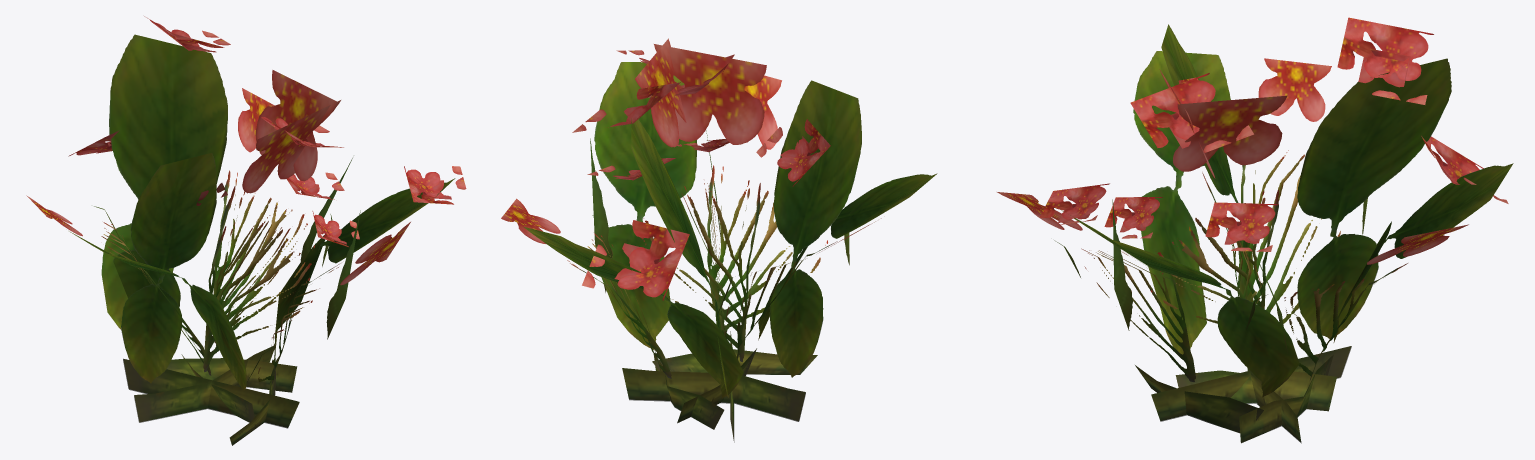
The model's file is Scene_cao_007.FBX.
The picture shows the model from 3 angles, left to right: view 1: azimuth 30°, elevation 25°; view 2: azimuth 150°, elevation 25°; view 3: azimuth 270°, elevation 25°; orthographic projection. The views are drawn at different scales.
Parts seen in each view (by area): view 1: Scene_cao_007; view 2: Scene_cao_007; view 3: Scene_cao_007.
Part boxes in pixels (box(x1,y1,x2,y2)): Scene_cao_007: box(26, 16, 466, 445); Scene_cao_007: box(501, 38, 937, 442); Scene_cao_007: box(997, 17, 1513, 443).
Bounding box in the file's own units: 116 × 110 × 139.
